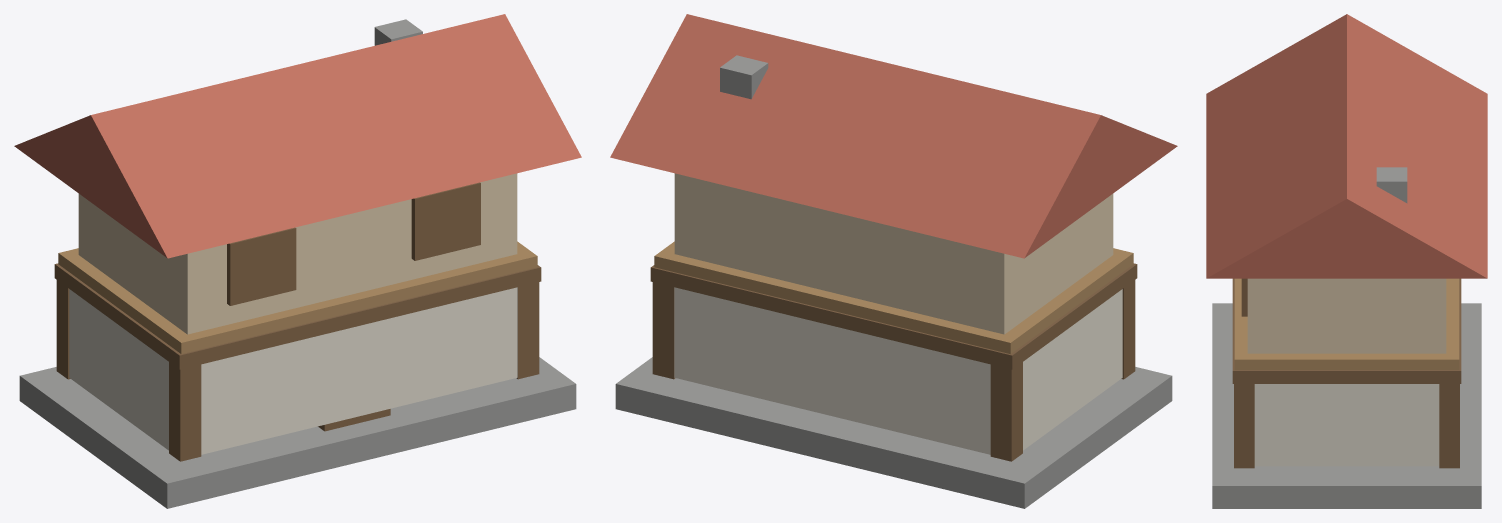
File: HomeSite.fbx
The picture shows the model from 3 angles, left to right: view 1: azimuth 30°, elevation 25°; view 2: azimuth 150°, elevation 25°; view 3: azimuth 270°, elevation 25°; orthographic projection. The views are drawn at different scales.
Parts seen in each view (by area): view 1: HomeSite_Roof, HomeSite_LowerWall, HomeSite_Foundation, HomeSite_UpperWall, HomeSite_Floor2, HomeSite_Beam, HomeSite_Window, HomeSite_Window.001, HomeSite_Post, HomeSite_Post.002, HomeSite_Post.001, HomeSite_Chimney; view 2: HomeSite_Roof, HomeSite_LowerWall, HomeSite_UpperWall, HomeSite_Foundation, HomeSite_Floor2, HomeSite_Beam, HomeSite_Post.001, HomeSite_Post.003, HomeSite_Chimney, HomeSite_Post; view 3: HomeSite_Roof, HomeSite_Foundation, HomeSite_LowerWall, HomeSite_UpperWall, HomeSite_Floor2, HomeSite_Beam, HomeSite_Post.002, HomeSite_Post.003, HomeSite_Chimney.
Boxes of the visible parts, box(x1,y1,x2,y2) form: HomeSite_Roof: box(14, 14, 581, 258); HomeSite_LowerWall: box(69, 287, 517, 454); HomeSite_Foundation: box(19, 357, 576, 508); HomeSite_UpperWall: box(78, 173, 517, 334); HomeSite_Floor2: box(58, 241, 537, 353); HomeSite_Beam: box(54, 263, 541, 369); HomeSite_Window: box(227, 227, 296, 305); HomeSite_Window.001: box(411, 182, 480, 260); HomeSite_Post: box(169, 362, 201, 461); HomeSite_Post.002: box(516, 282, 539, 379); HomeSite_Post.001: box(56, 280, 70, 379); HomeSite_Chimney: box(374, 19, 422, 45); HomeSite_Roof: box(610, 14, 1177, 258); HomeSite_LowerWall: box(674, 287, 1122, 454); HomeSite_UpperWall: box(674, 173, 1113, 334); HomeSite_Foundation: box(615, 357, 1172, 508); HomeSite_Floor2: box(654, 241, 1133, 353); HomeSite_Beam: box(650, 263, 1137, 369); HomeSite_Post.001: box(990, 362, 1022, 461); HomeSite_Post.003: box(652, 282, 675, 379); HomeSite_Chimney: box(720, 55, 768, 99); HomeSite_Post: box(1121, 280, 1135, 379); HomeSite_Roof: box(1206, 14, 1487, 278); HomeSite_Foundation: box(1212, 303, 1481, 508); HomeSite_LowerWall: box(1254, 384, 1439, 466); HomeSite_UpperWall: box(1247, 278, 1446, 353); HomeSite_Floor2: box(1234, 278, 1459, 369); HomeSite_Beam: box(1232, 278, 1461, 383); HomeSite_Post.002: box(1234, 384, 1254, 468); HomeSite_Post.003: box(1439, 384, 1459, 468); HomeSite_Chimney: box(1376, 167, 1407, 203).
Bounding box in the file's own units: 280 × 220 × 180.
